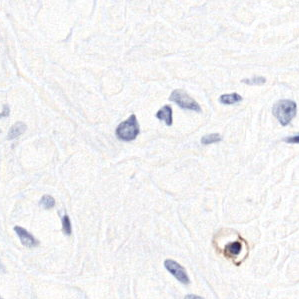Lymphocyte: (212, 227, 251, 268)
